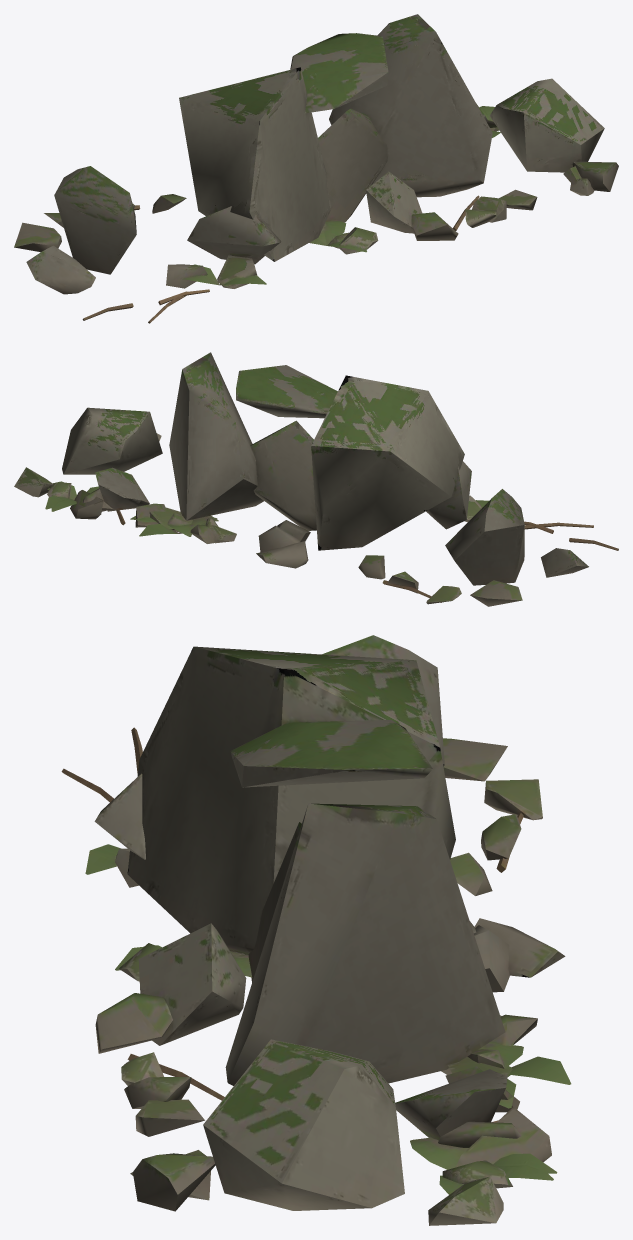
The model's file is ridge-forest.hq.glb.
3 views of the same model, one above another, from view 1: azimuth 30°, elevation 25°; view 2: azimuth 150°, elevation 25°; view 3: azimuth 270°, elevation 25° (orthographic). The views are drawn at different scales.
Parts seen in each view (by area): view 1: ridge-forest; view 2: ridge-forest; view 3: ridge-forest.
Part boxes in pixels (bbox=[...]): ridge-forest: bbox=[14, 14, 618, 323]; ridge-forest: bbox=[14, 352, 618, 606]; ridge-forest: bbox=[61, 635, 571, 1225].
Size of the model in its own units: 3.06 by 0.8449 by 1.29.
1 material, 1 textured.
